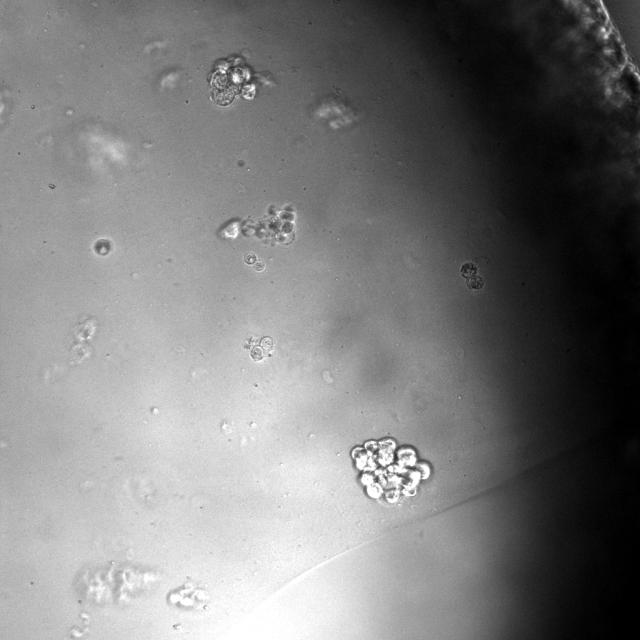organoid: (351, 437, 431, 503), (207, 54, 272, 107), (217, 205, 296, 244), (243, 336, 274, 361), (460, 262, 484, 290), (245, 252, 265, 272), (92, 238, 113, 256)
